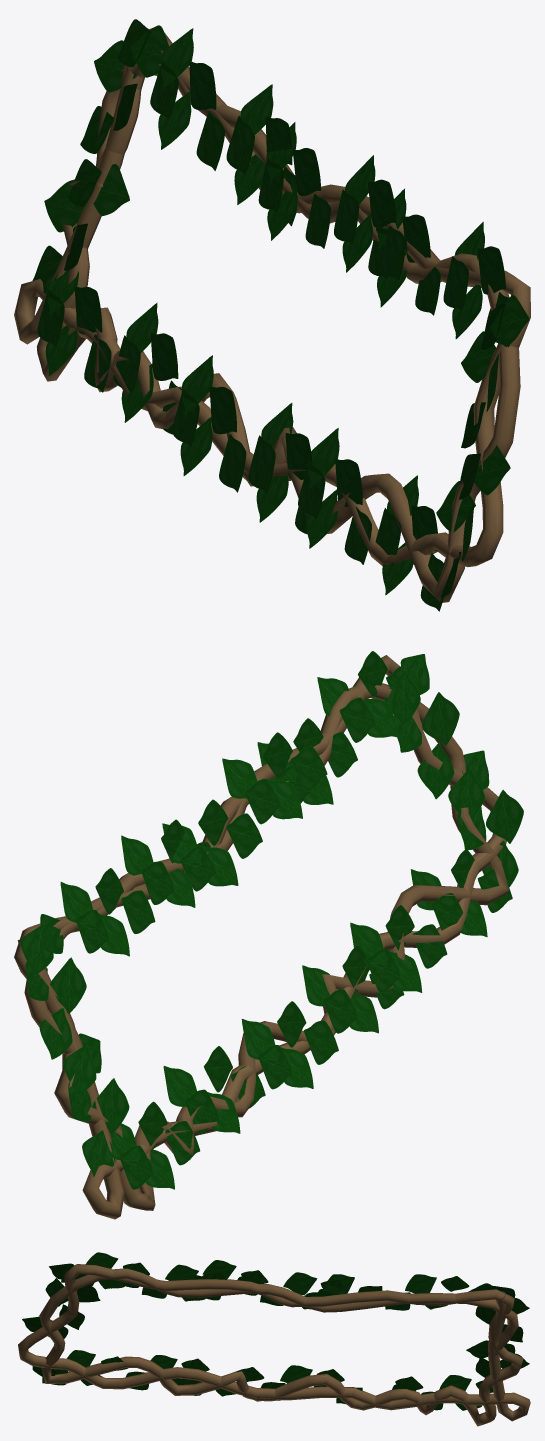
File: button.fbx
3 views of the same model, one above another, from view 1: azimuth 30°, elevation 25°; view 2: azimuth 150°, elevation 25°; view 3: azimuth 270°, elevation 25° (orthographic). The views are drawn at different scales.
Visible parts, largest first — view 1: Plane; view 2: Plane; view 3: Plane.
Boxes of the visible parts, box(x1,y1,x2,y2) form: Plane: box(14, 19, 530, 611); Plane: box(14, 651, 523, 1219); Plane: box(18, 1252, 530, 1426).
Size of the model in its own units: 47.44 by 107 by 247.
